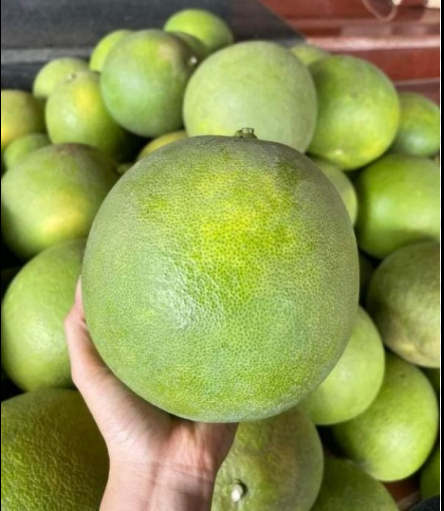buoi: (77, 129, 362, 427), (185, 33, 319, 157), (1, 383, 108, 508), (1, 242, 96, 381), (102, 29, 208, 132), (305, 58, 403, 169), (372, 235, 441, 369), (164, 10, 241, 58), (391, 90, 440, 161), (23, 52, 90, 94), (1, 132, 43, 164)
